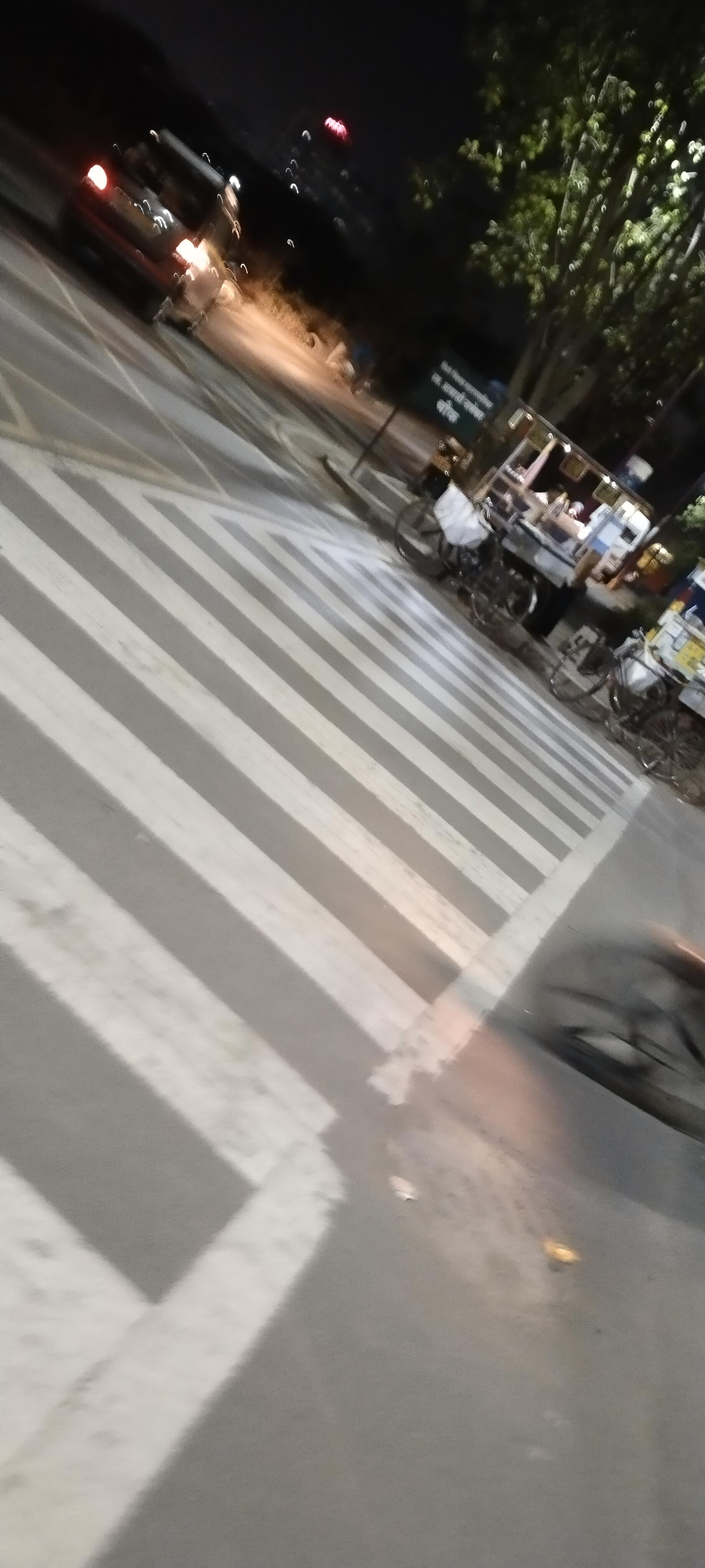crosswalk: (0, 465, 657, 1568)
